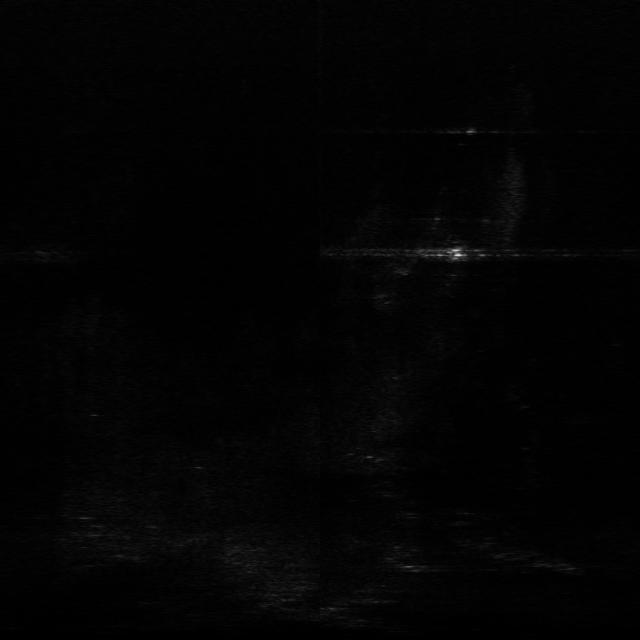rov: (442, 244, 468, 263)
